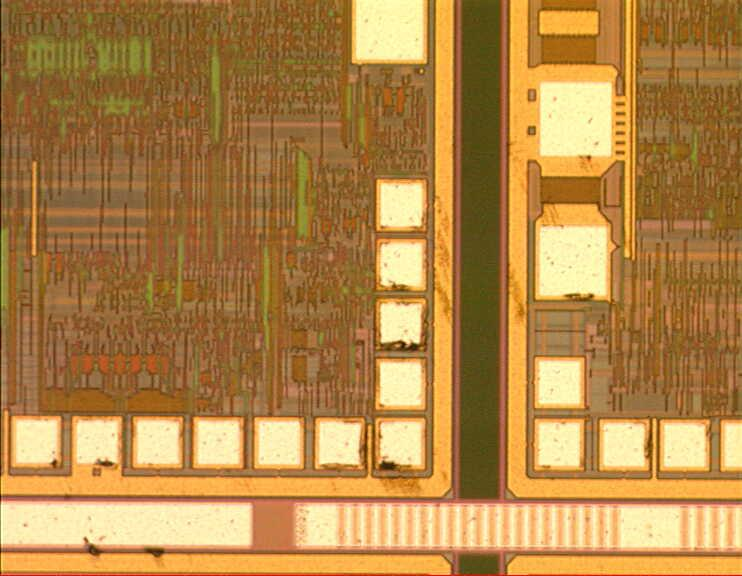SCRATCH: (41, 134, 635, 575)
